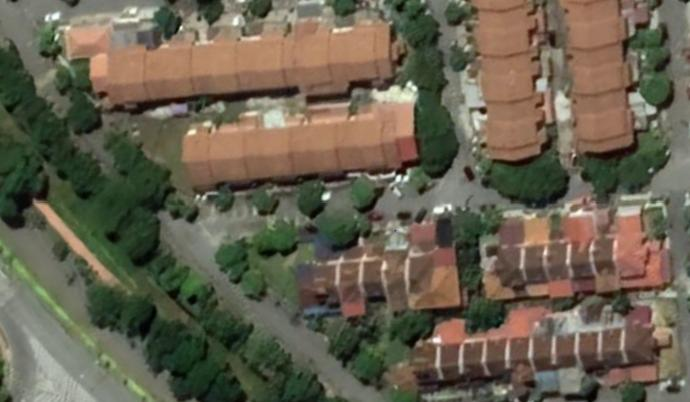building: (59, 19, 156, 112), (340, 97, 423, 180), (405, 220, 466, 315), (286, 2, 338, 100), (150, 25, 200, 106), (295, 102, 347, 179), (243, 17, 291, 98), (196, 21, 245, 100), (214, 108, 264, 185), (248, 121, 300, 185), (294, 250, 344, 314), (177, 119, 217, 192), (480, 125, 551, 163), (490, 240, 536, 294), (563, 24, 634, 56), (475, 82, 546, 113), (565, 72, 636, 103), (340, 249, 369, 322), (476, 13, 541, 45), (473, 60, 546, 88), (576, 122, 637, 155), (408, 341, 450, 387), (560, 8, 631, 35), (480, 107, 550, 134), (617, 230, 653, 282), (563, 52, 633, 78), (573, 98, 635, 127), (476, 41, 543, 67), (386, 248, 412, 314), (629, 320, 662, 367), (574, 233, 603, 281), (551, 236, 579, 283), (466, 337, 495, 382), (604, 322, 630, 369), (367, 251, 388, 306), (558, 327, 584, 371), (529, 240, 553, 287), (582, 325, 607, 369), (445, 339, 469, 384), (471, 1, 538, 17), (491, 334, 515, 378), (535, 330, 559, 374), (597, 233, 621, 276), (513, 333, 538, 374), (559, 0, 620, 13)
